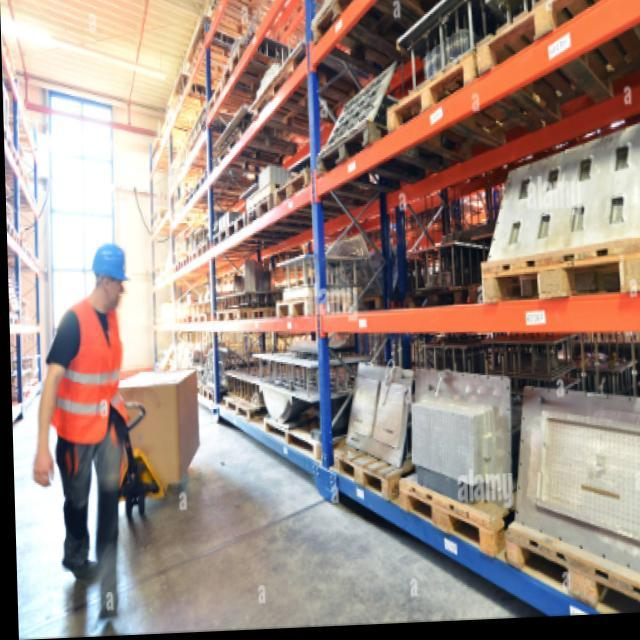boots: (60, 547, 123, 625)
helmet: (86, 243, 132, 315)
vest: (36, 297, 127, 454)
